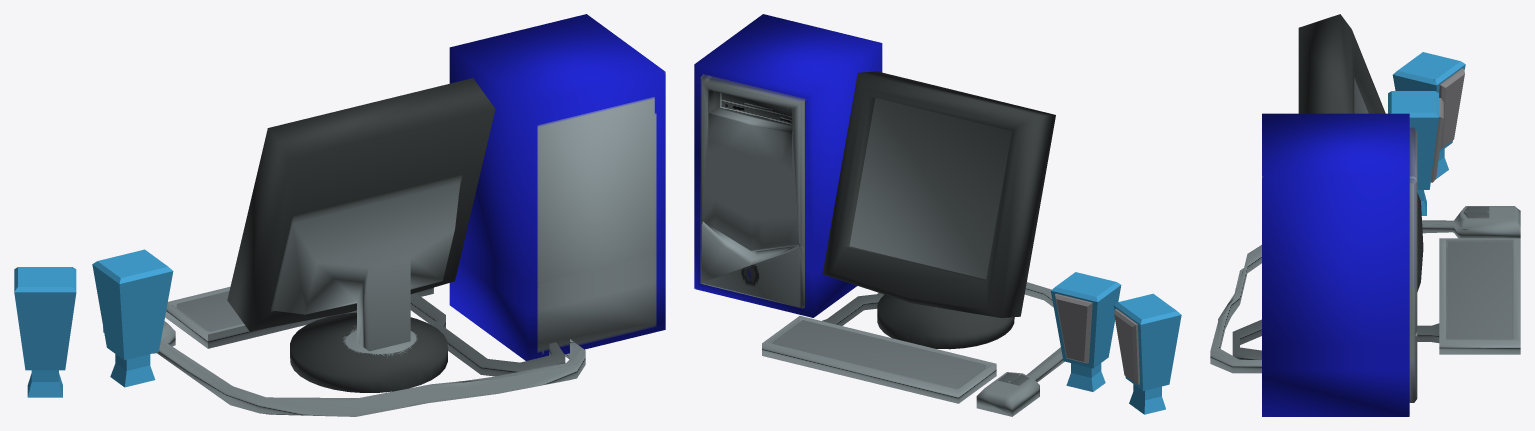
Rendered from computerMegaKart(22-03-15).fbx.
The picture shows the model from 3 angles, left to right: view 1: azimuth 30°, elevation 25°; view 2: azimuth 150°, elevation 25°; view 3: azimuth 270°, elevation 25°; orthographic projection. The views are drawn at different scales.
Visible parts, largest first — view 1: Cube.001, Cube, Cube.002, Cube.003, Cube.004; view 2: Cube, Cube.001, Cube.002, Cube.003, Cube.004; view 3: Cube.001, Cube.002, Cube, Cube.004, Cube.003.
Part boxes in pixels (bbox=[...]): Cube.001: bbox=[449, 14, 665, 360]; Cube: bbox=[227, 78, 495, 392]; Cube.002: bbox=[103, 287, 585, 416]; Cube.003: bbox=[92, 249, 173, 387]; Cube.004: bbox=[14, 267, 76, 397]; Cube: bbox=[822, 71, 1055, 349]; Cube.001: bbox=[694, 14, 882, 317]; Cube.002: bbox=[762, 282, 1064, 416]; Cube.003: bbox=[1051, 272, 1121, 391]; Cube.004: bbox=[1113, 293, 1181, 414]; Cube.001: bbox=[1262, 113, 1417, 416]; Cube.002: bbox=[1210, 206, 1520, 373]; Cube: bbox=[1298, 14, 1423, 291]; Cube.004: bbox=[1392, 52, 1465, 178]; Cube.003: bbox=[1388, 91, 1443, 215].
Size of the model in its own units: 827 by 360 by 420.
